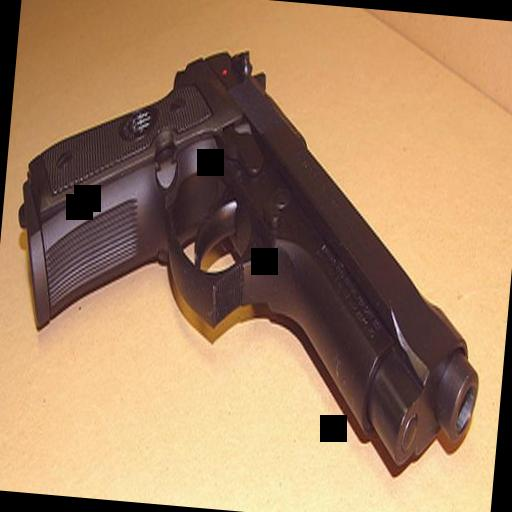Handgun: (0, 10, 506, 479)
